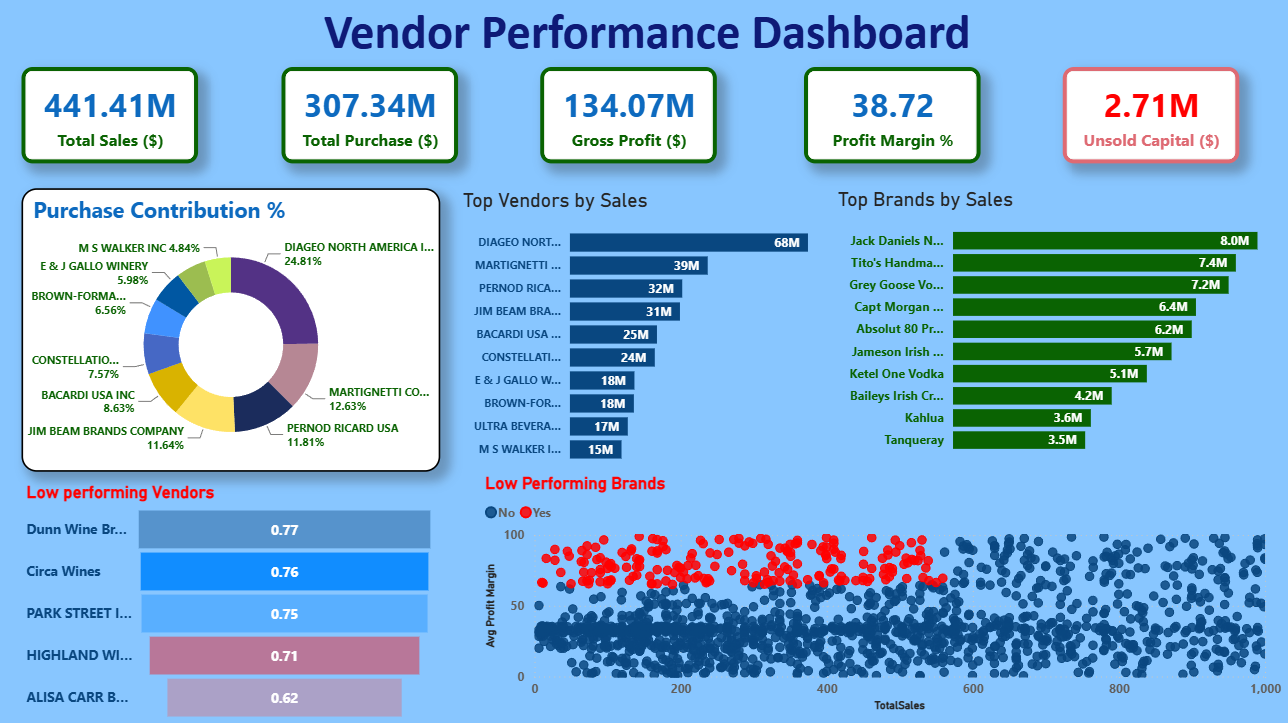

Layout of this report page (visuals, bound fields, positions):
{"tool":"powerbi","page":{"name":"Page 1","canvas":[1280,720],"ordinal":0},"visuals":[{"type":"textbox","box":[0,0,1280.2,69.1],"z":0},{"type":"cardVisual","fields":{"Data":["Sum(vendor_sales_summary.TotalSalesDollars)"]},"box":[22.2,69.1,174.1,95.1],"z":1000},{"type":"cardVisual","fields":{"Data":["Sum(vendor_sales_summary.TotalPurchaseDollars)"]},"box":[279,69.1,174.1,95.1],"z":2000},{"type":"cardVisual","fields":{"Data":["Sum(vendor_sales_summary.GrossProfit)"]},"box":[534.6,69.1,174.1,95.1],"z":3000},{"type":"cardVisual","fields":{"Data":["Avg(vendor_sales_summary.ProfitMargin)"]},"box":[795.1,69.1,174.1,95.1],"z":4000},{"type":"cardVisual","fields":{"Data":["Sum(vendor_sales_summary.UnsoldCapital)"]},"box":[1050.6,69.1,174.1,95.1],"z":5000},{"type":"donutChart","title":"Purchase Contribution % ","fields":{"Y":["Sum(PurchaseContribution.PurchaseContribution%)"],"Category":["PurchaseContribution.VendorName"]},"box":[22.2,188.9,413.6,280.2],"z":6000},{"type":"barChart","title":"Top Vendors by Sales","fields":{"Category":["vendor_sales_summary.VendorName"],"Y":["Sum(vendor_sales_summary.TotalSalesDollars)"]},"box":[453.1,190.1,392.6,280.2],"z":7000},{"type":"barChart","title":"Top Brands by Sales","fields":{"Y":["Sum(vendor_sales_summary.TotalSalesDollars)"],"Category":["vendor_sales_summary.Description"]},"box":[823.5,188.9,425.9,271.6],"z":8000},{"type":"funnel","title":"Low performing Vendors","fields":{"Y":["Avg(LowTurnoverVendor.AvgStockTurnOver)"],"Category":["LowTurnoverVendor.VendorName"]},"box":[22,479,414,241],"z":9000},{"type":"scatterChart","title":"Low Performing Brands","fields":{"Category":["BrandPerformance.Description"],"X":["Sum(BrandPerformance.TotalSales)"],"Series":["BrandPerformance.TargetBrand"],"Y":["Avg(BrandPerformance.AvgProfitMargin)"]},"box":[475.3,470.4,796.3,240.7],"z":10000}]}

Visuals, with their boxes in screenshot pixels (x1, y1, x2, y2), scaled from the page's 1280x720 canvas onto the 1288x723 screenshot:
textbox: bbox=(0, 0, 1287, 69)
cardVisual - Sum(vendor_sales_summary.TotalSalesDollars): bbox=(22, 69, 198, 165)
cardVisual - Sum(vendor_sales_summary.TotalPurchaseDollars): bbox=(281, 69, 456, 165)
cardVisual - Sum(vendor_sales_summary.GrossProfit): bbox=(538, 69, 713, 165)
cardVisual - Avg(vendor_sales_summary.ProfitMargin): bbox=(800, 69, 975, 165)
cardVisual - Sum(vendor_sales_summary.UnsoldCapital): bbox=(1057, 69, 1232, 165)
"Purchase Contribution % " donutChart: bbox=(22, 190, 439, 471)
"Top Vendors by Sales" barChart: bbox=(456, 191, 851, 472)
"Top Brands by Sales" barChart: bbox=(829, 190, 1257, 462)
"Low performing Vendors" funnel: bbox=(22, 481, 439, 722)
"Low Performing Brands" scatterChart: bbox=(478, 472, 1280, 714)
